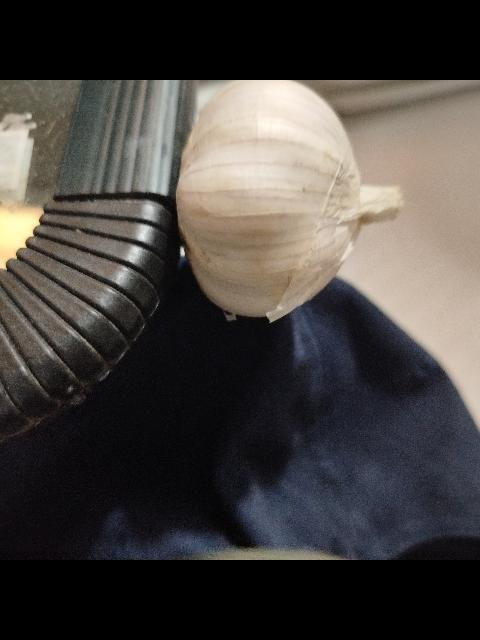garlic: (174, 80, 404, 324)
